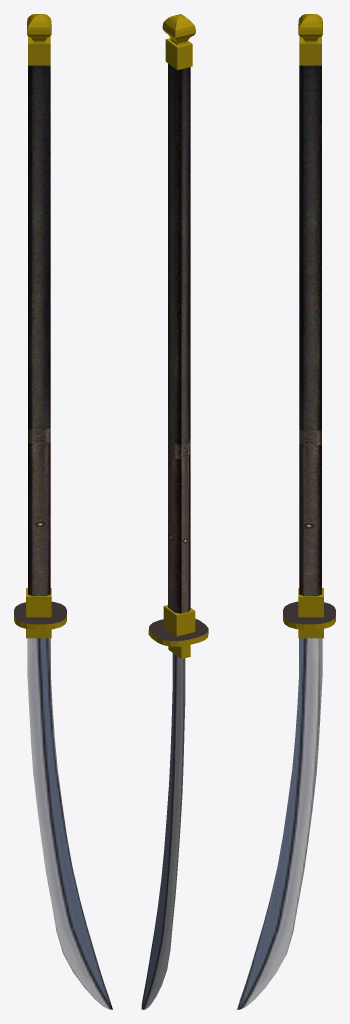
File: YCNaginata.fbx
3 views of the same model, side by side, from view 1: azimuth 90°, elevation 25°; view 2: azimuth 210°, elevation 25°; view 3: azimuth 270°, elevation 25° (orthographic). The views are drawn at different scales.
Parts seen in each view (by area): view 1: Naginata; view 2: Naginata; view 3: Naginata.
Boxes of the visible parts, x1,y1,x2,y2 form: Naginata: (14, 14, 112, 1009); Naginata: (141, 14, 208, 1009); Naginata: (237, 14, 335, 1009).
Bounding box in the file's own units: 0.0572 × 1.15 × 0.1035.
